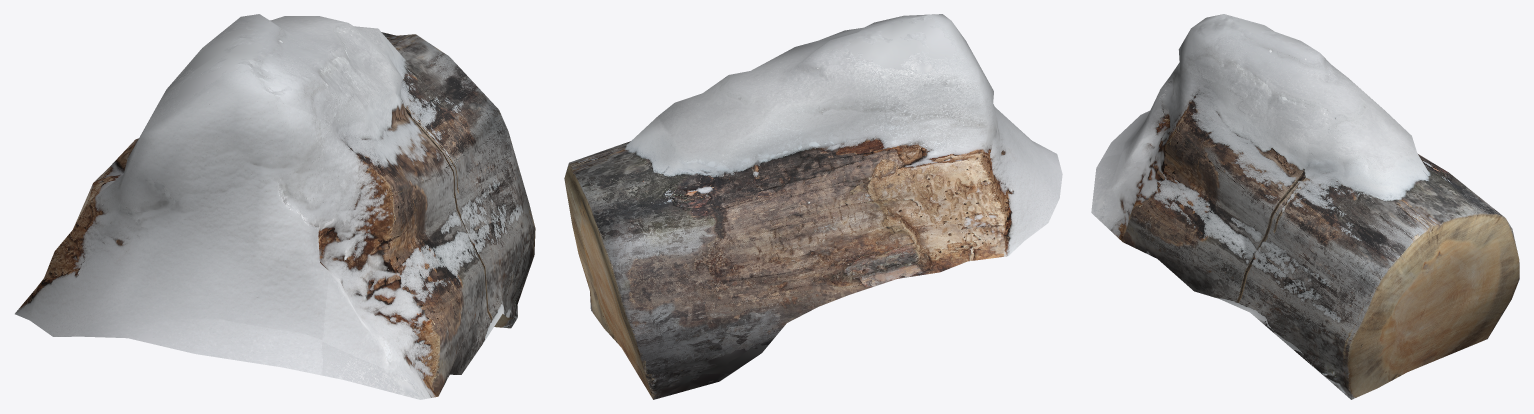
File: Forest_stump_1.FBX
3 renders of one model, left to right at view 1: azimuth 30°, elevation 25°; view 2: azimuth 150°, elevation 25°; view 3: azimuth 270°, elevation 25°, orthographic. The views are drawn at different scales.
Parts seen in each view (by area): view 1: Forest_stump_1; view 2: Forest_stump_1; view 3: Forest_stump_1.
Boxes of the visible parts, x1,y1,x2,y2 form: Forest_stump_1: (15,14,535,399); Forest_stump_1: (564,14,1062,399); Forest_stump_1: (1091,14,1519,399).
Bounding box in the file's own units: 1.54 × 1.11 × 1.58.
1 material, 1 textured.
